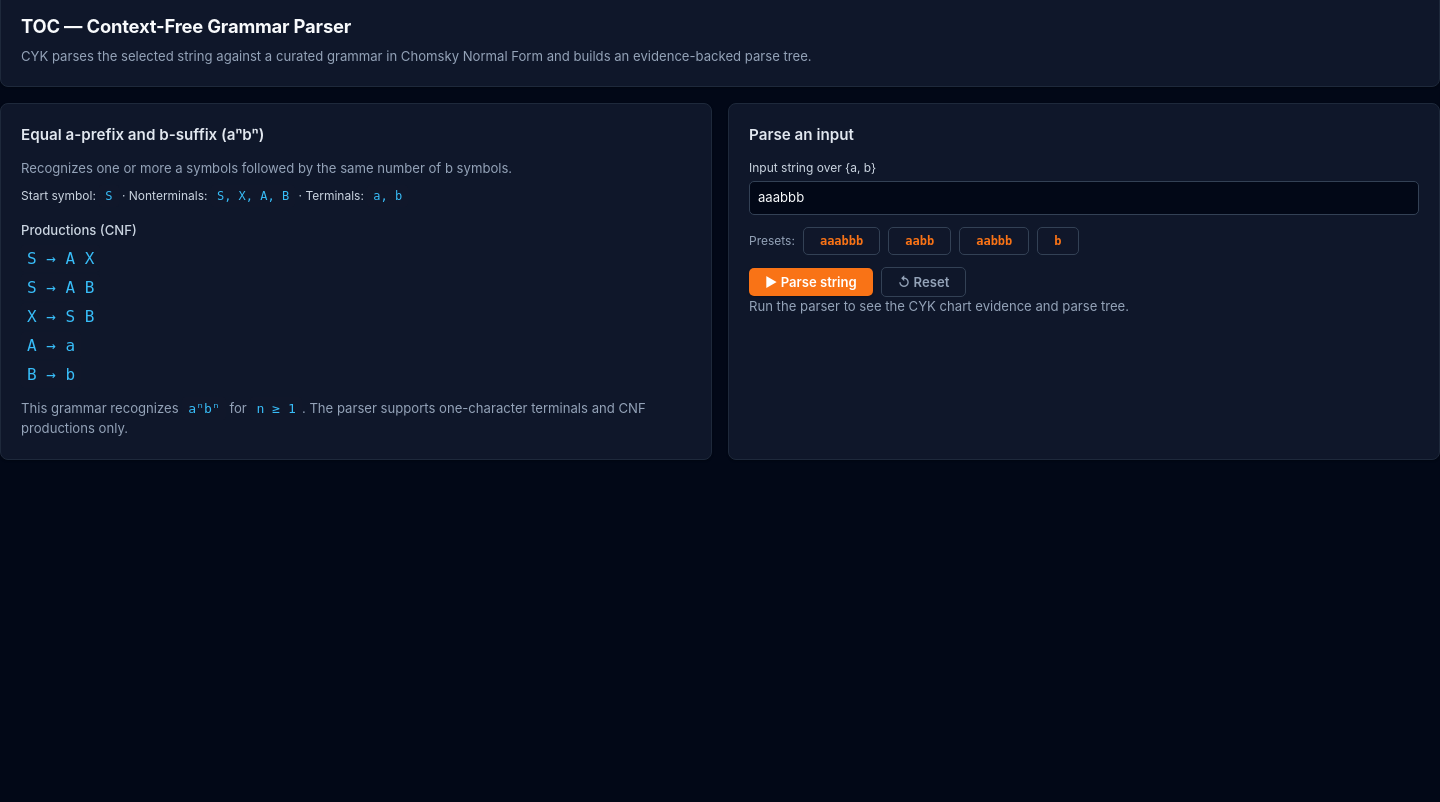
Test case: TOCCFGLab › accepts an in-language string and displays its actual parse tree
The width and height of the screenshot is (1440, 802).
Click the button "▶ Parse string" at (811, 282), box x1=749 y1=268 x2=873 y2=296
(page scrolled)
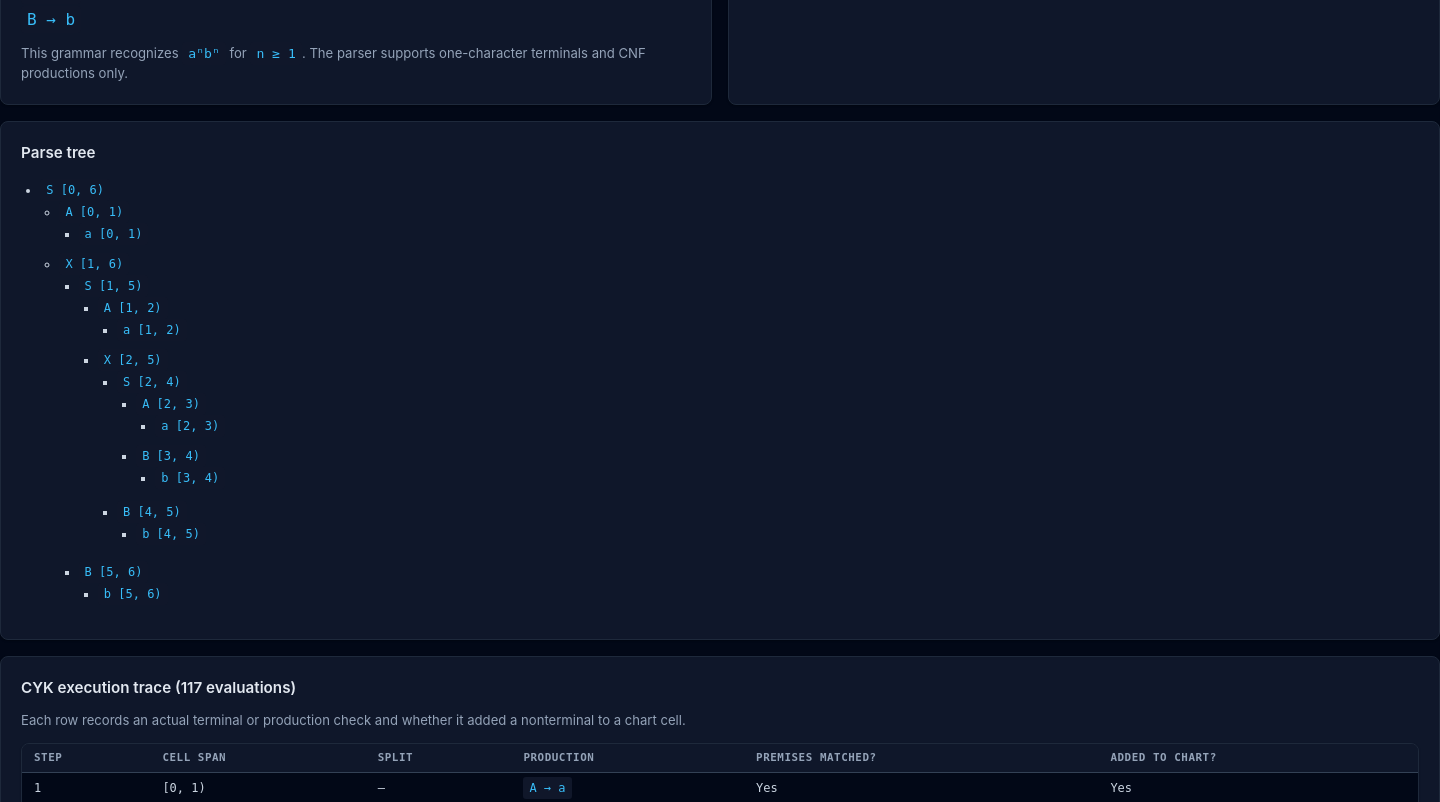
expect the list named "Derived parse tree" shows "S": met, box x1=46 y1=183 x2=53 y2=197
expect the list named "Derived parse tree" shows "b": met, box x1=142 y1=449 x2=149 y2=463
